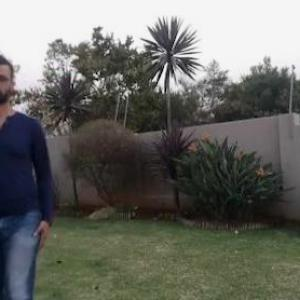follow: (1, 73, 50, 299)
